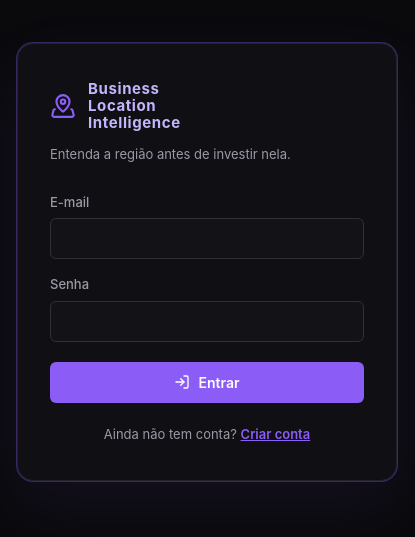
Scenario: LoginPage › shows a Portuguese message for DATABASE_UNAVAILABLE and never the raw code or server text
Type "maria@example.com" into the field labelled "E-mail" at [207, 239], box [50,218,364,259]
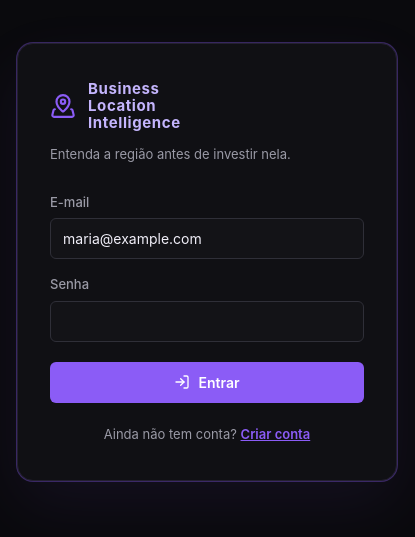
Type "alguma-senha-longa" into the password field labelled "Senha" at [207, 321], box [50,301,364,342]
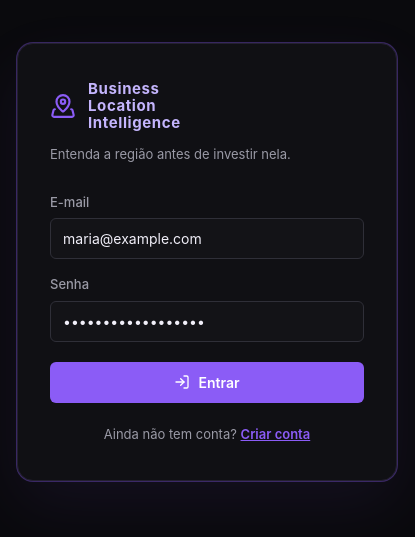
Click the button "Entrar" at [207, 382], box [50,362,364,403]
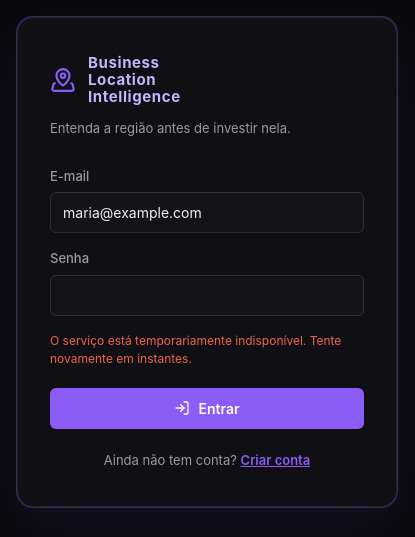
Check: the message reads "O serviço está temporariamente indisponível. Tente novamente em instantes.", box [50,333,341,366]
